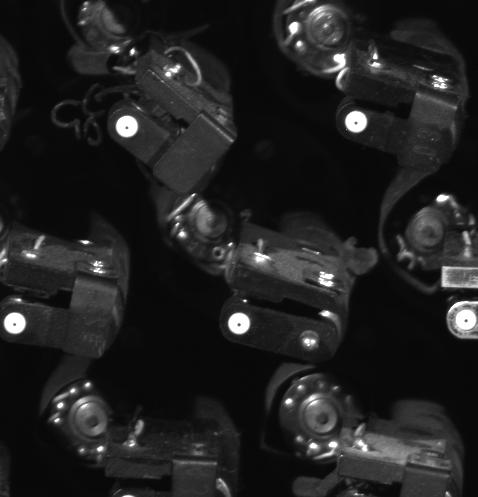fiber: (335, 101, 373, 139), (108, 111, 146, 144), (225, 306, 262, 339), (1, 305, 33, 342), (450, 308, 478, 333)
